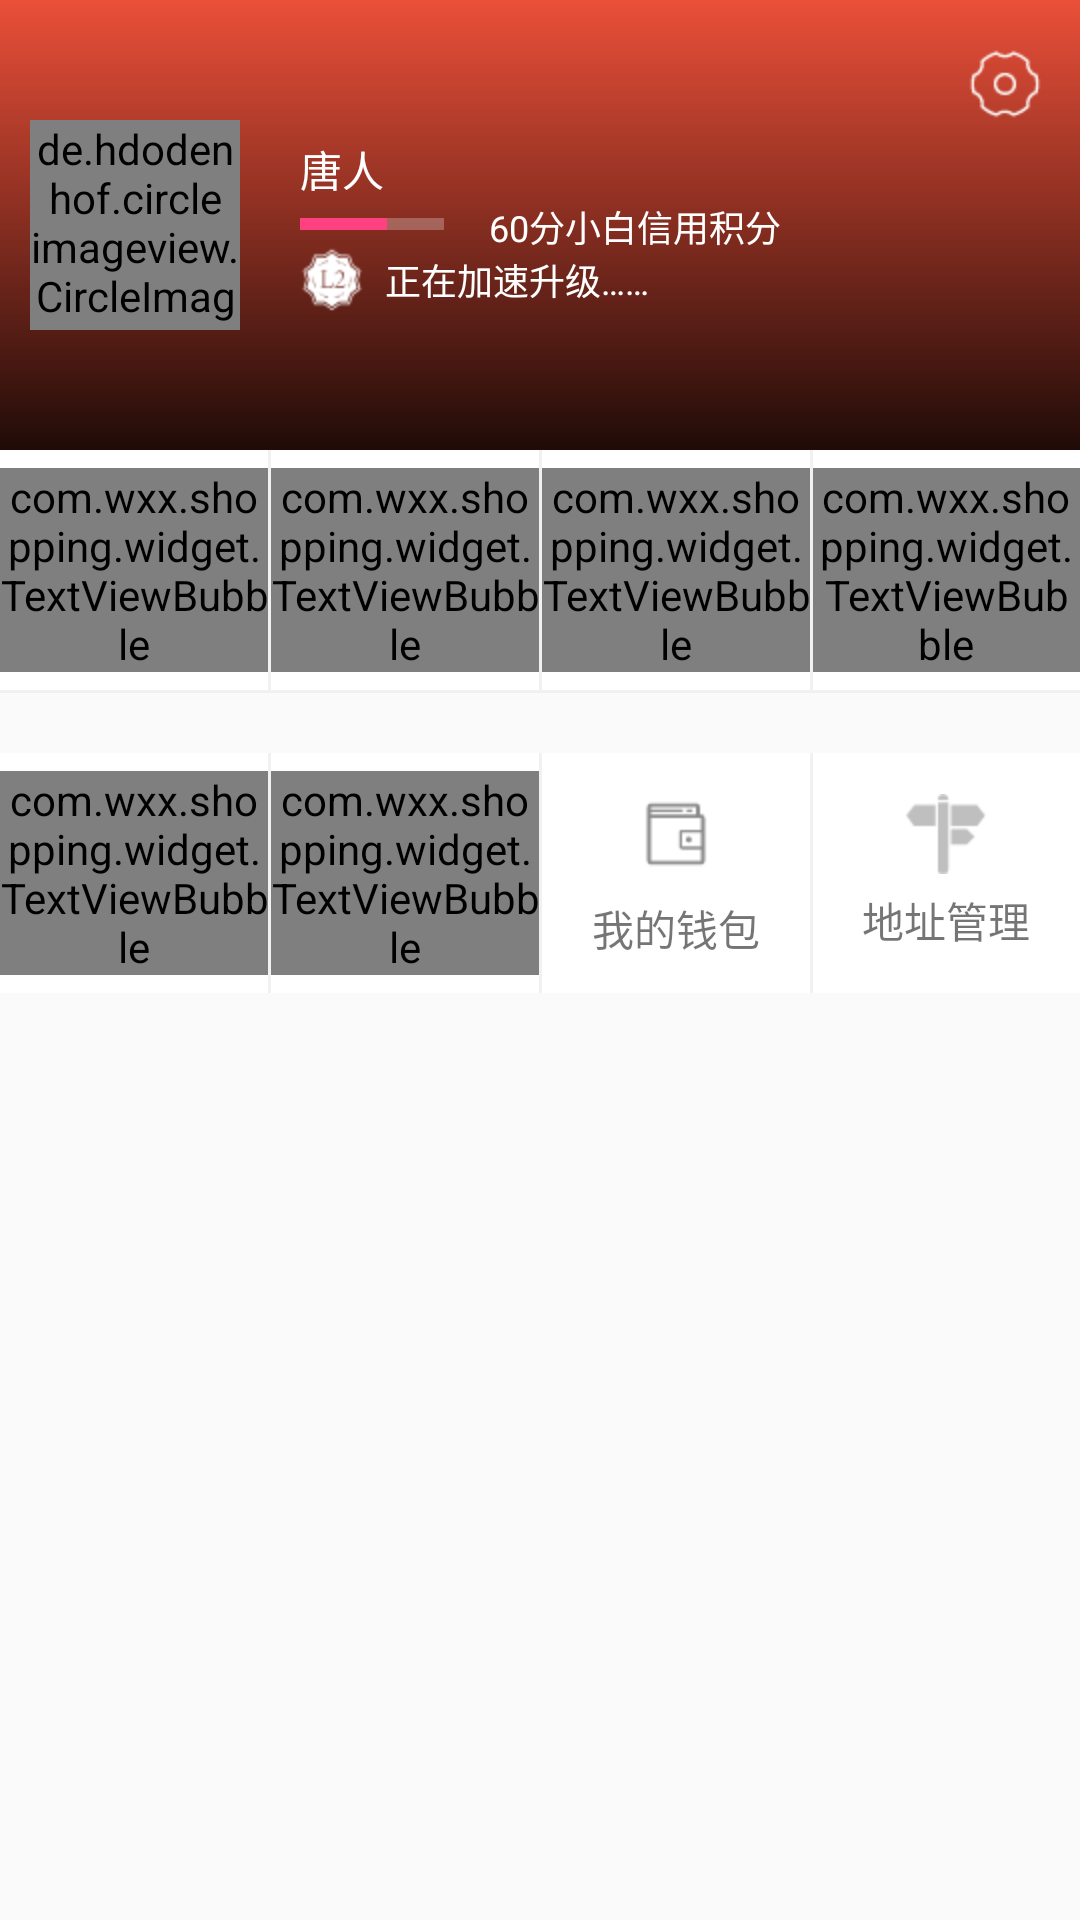

Icons on this 1080px x 1920px Android screen, each with the point to tap as (x,y):
setting: (1005,84)
